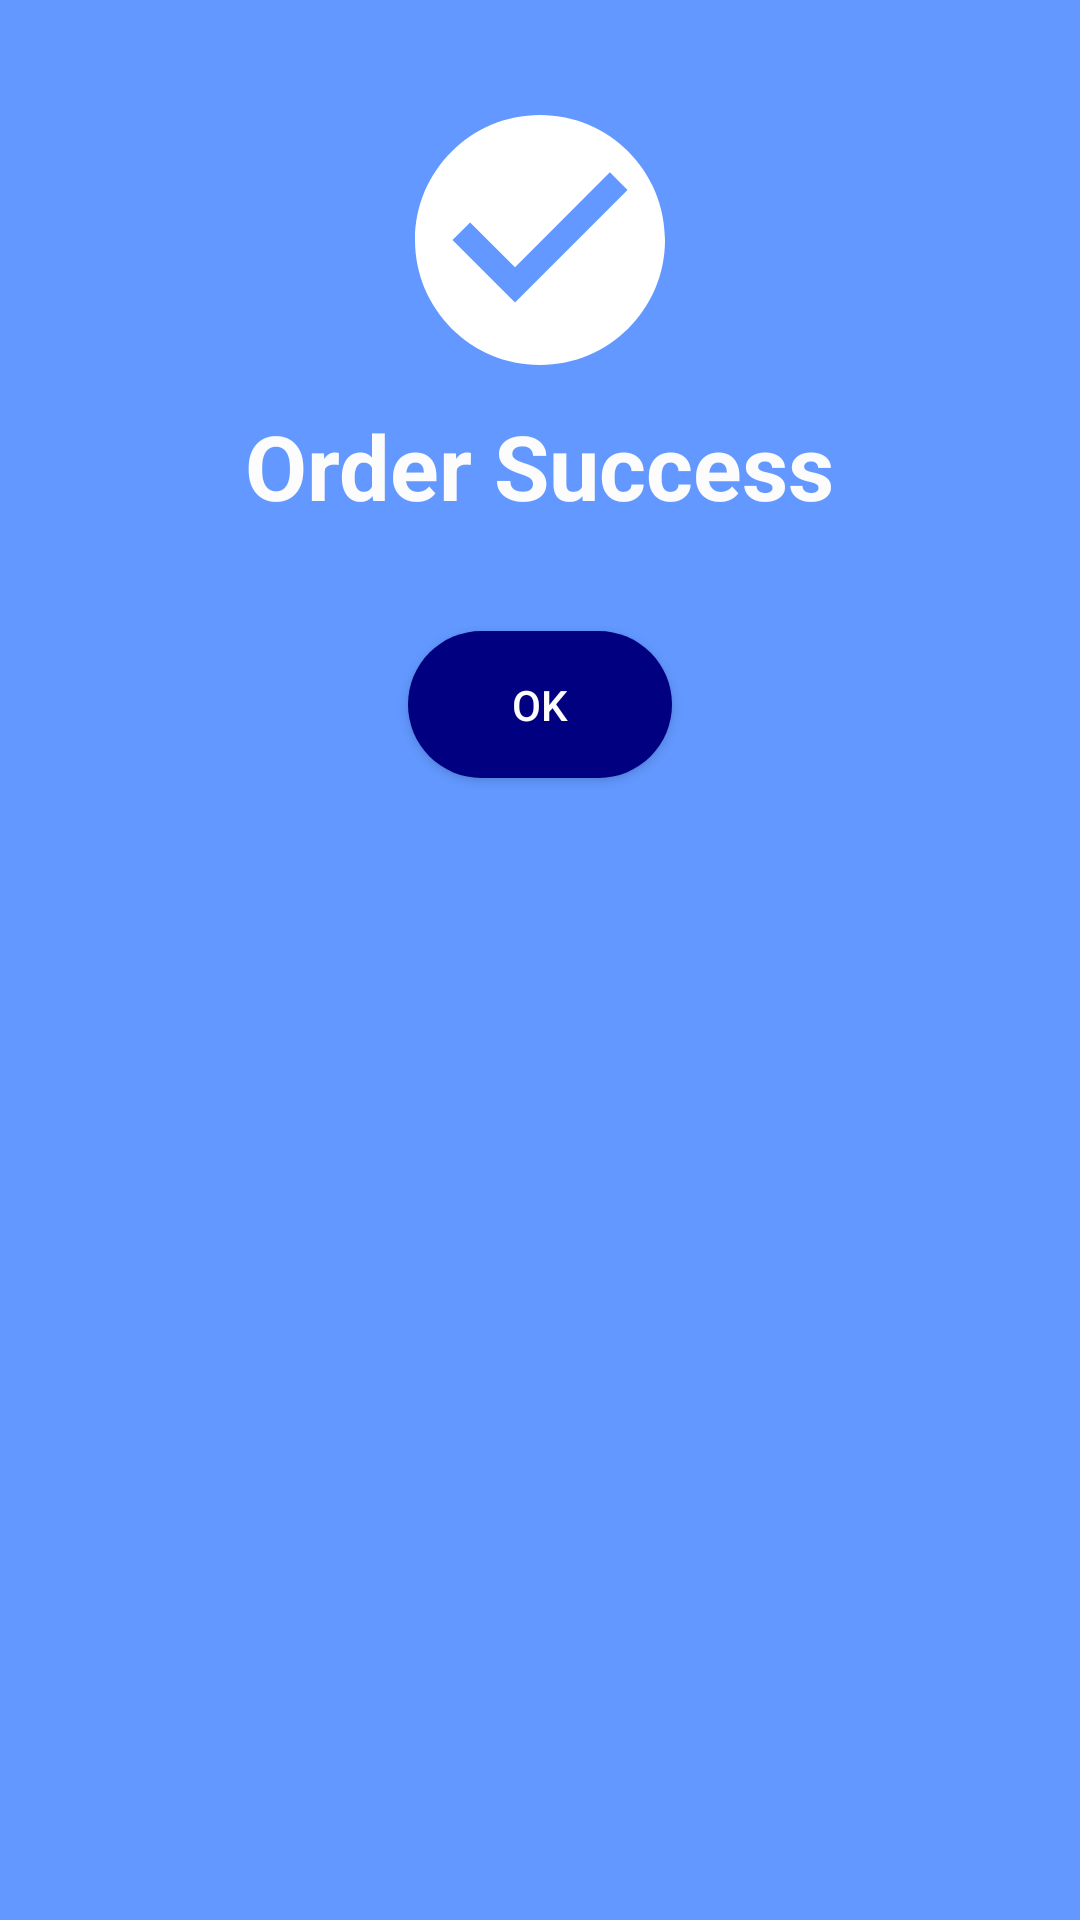

Where to tap for icons on this 1080*1920 app screen, as (x,y):
check circle: (540,240)
